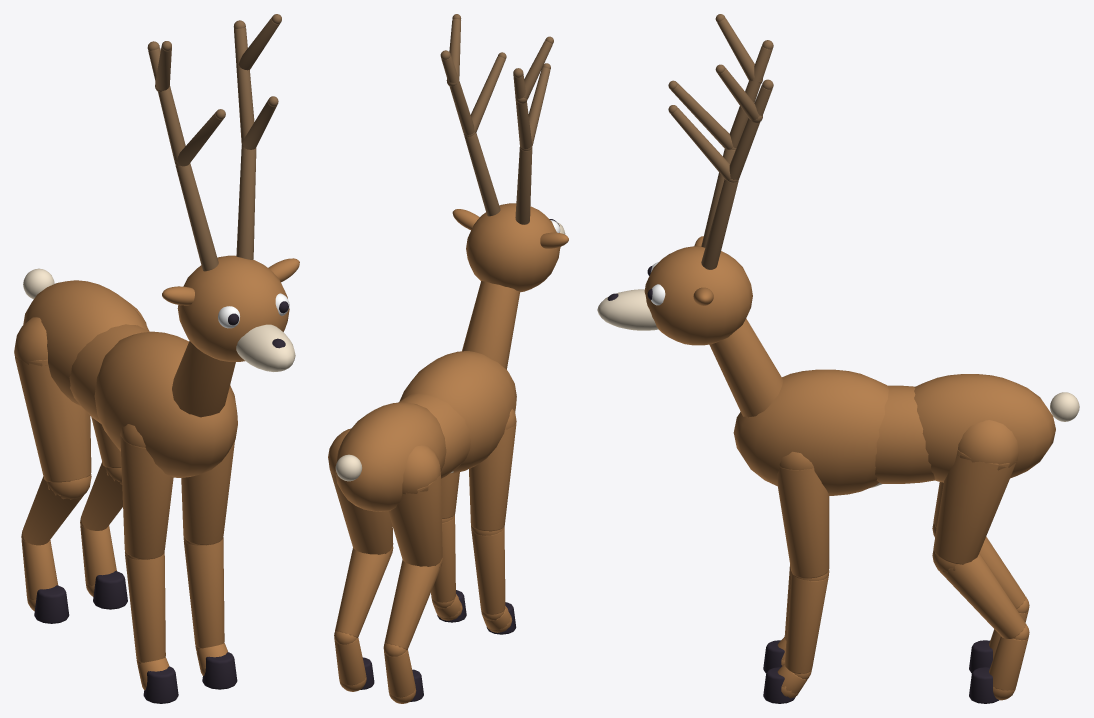
The model's file is deer.glb.
The picture shows the model from 3 angles, left to right: view 1: azimuth 30°, elevation 25°; view 2: azimuth 150°, elevation 25°; view 3: azimuth 270°, elevation 25°; orthographic projection. The views are drawn at different scales.
Visible parts, largest first — view 1: deer; view 2: deer; view 3: deer.
Part boxes in pixels (left/top/right/bottom): deer: left=14, top=14, right=299, bottom=703; deer: left=328, top=14, right=568, bottom=703; deer: left=597, top=14, right=1079, bottom=703.
Size of the model in its own units: 0.6255 by 3.02 by 2.04.
